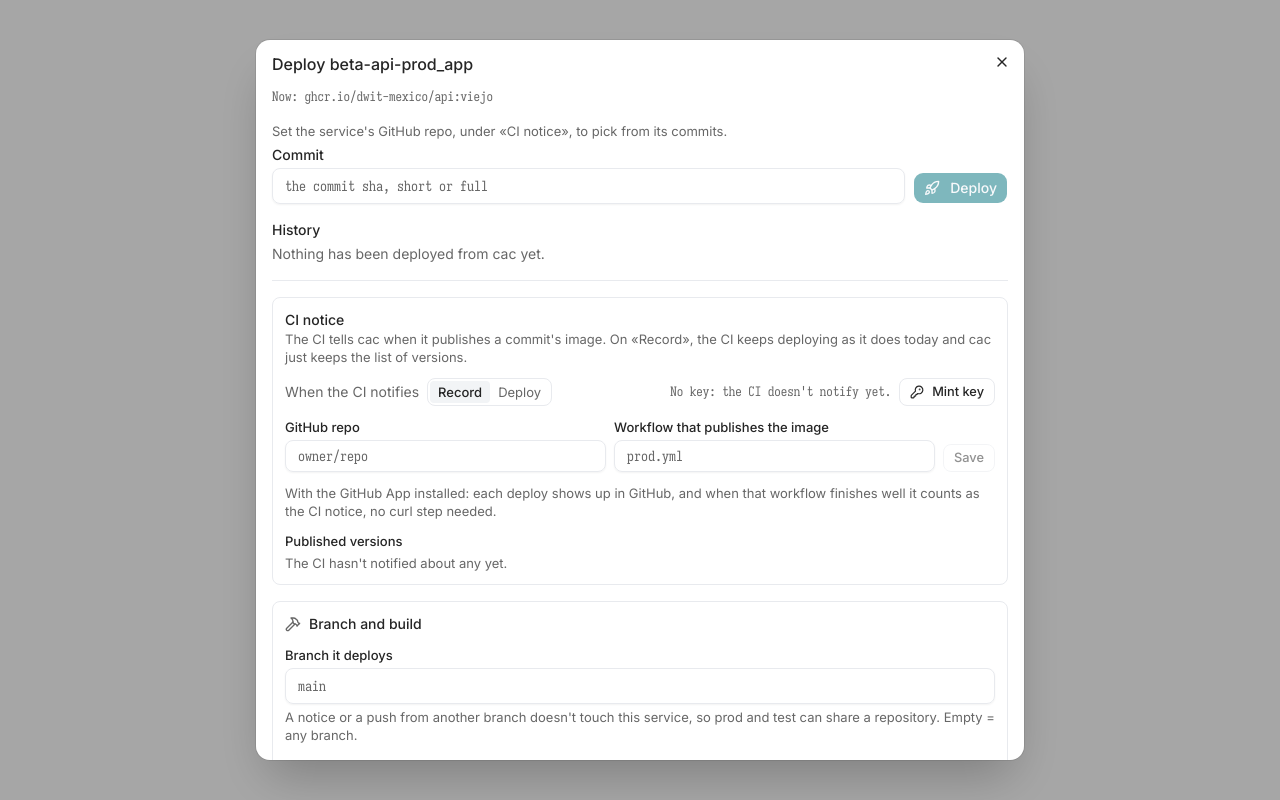
el aviso del CI › la llave se enseña una vez, con el paso para el workflow, y no se queda en el store
This screenshot has width=1280, height=800.
Click the button "Mint key".
click(947, 392)  # box x1=899 y1=378 x2=995 y2=406
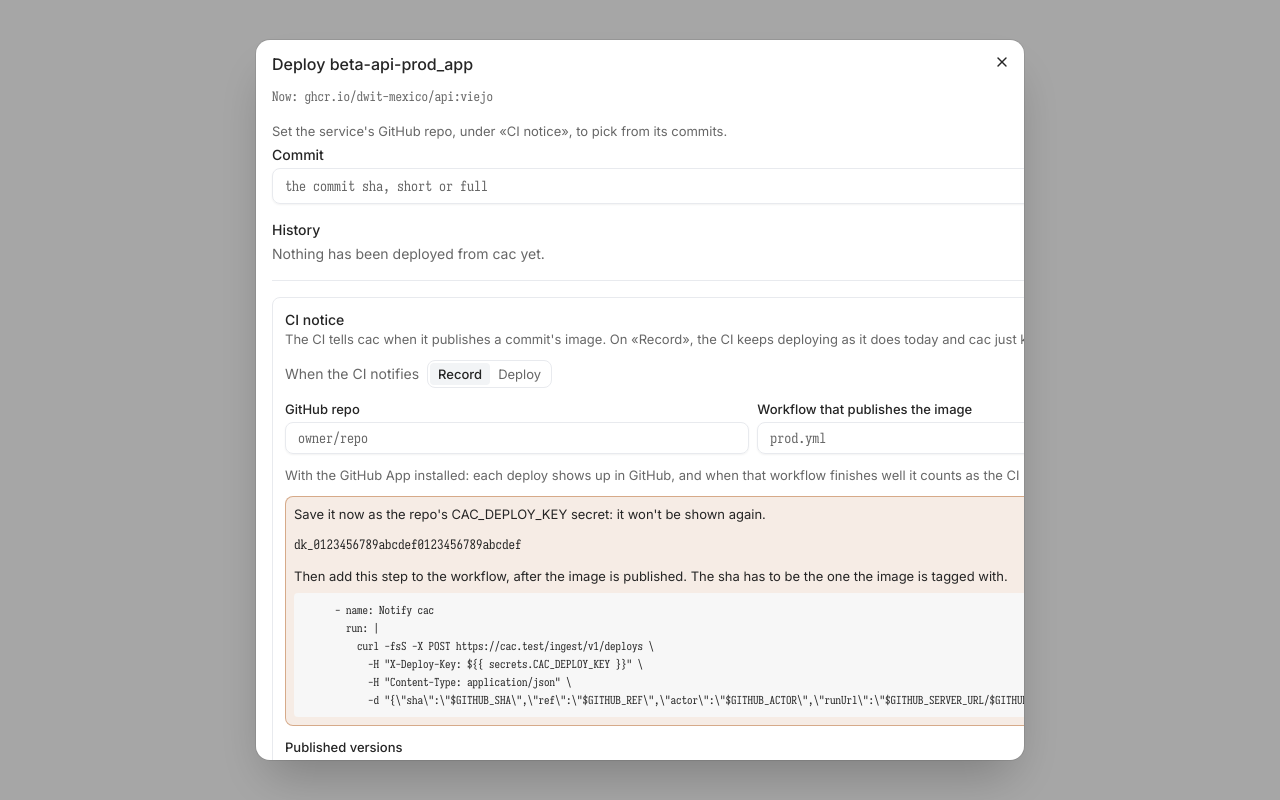
Result: the text with test id "ci-key" reads "dk_0123456789abcdef0123456789abcdef" at x1=294 y1=536 x2=522 y2=553
Result: the text "X-Deploy-Key" shows "https://cac.test/ingest/v1/deploys" at x1=302 y1=603 x2=1024 y2=707
Result: the text "X-Deploy-Key" shows "secrets.CAC_DEPLOY_KEY" at x1=302 y1=603 x2=1024 y2=707
